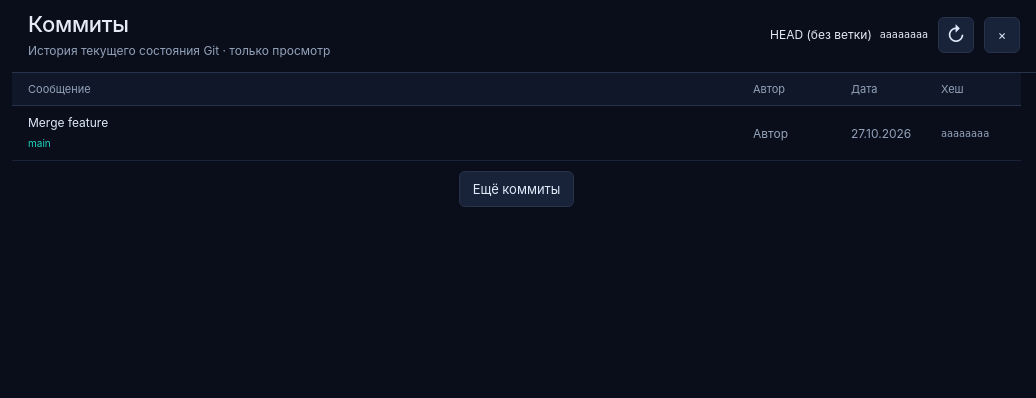
pages without reloading the selection and supports the keyboard splitter
Click the button "Merge feature": coordinates (68, 122) [12,106,1021,161]
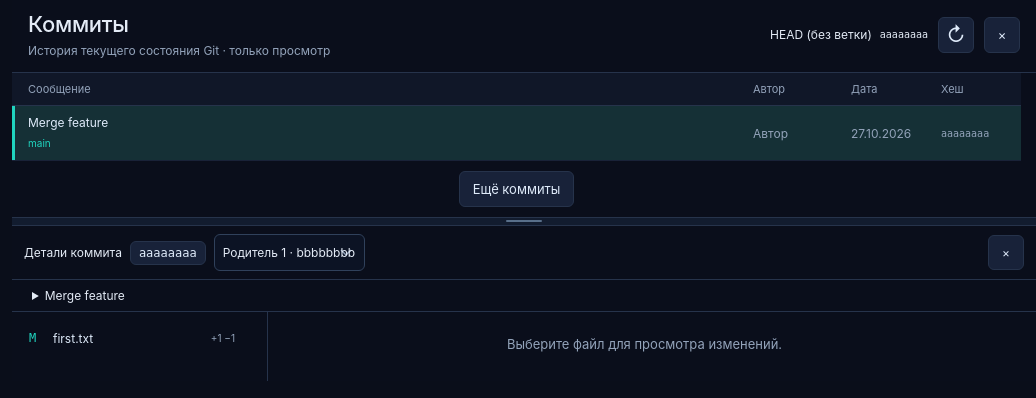
Expected: the button "M first.txt +1 −1" is shown, [20,320,244,356]
Press ArrowDown in the element named "Размер списка коммитов", box [12,217,1035,226]
Click the button "Ещё коммиты": coordinates (516, 189) [459,171,574,207]
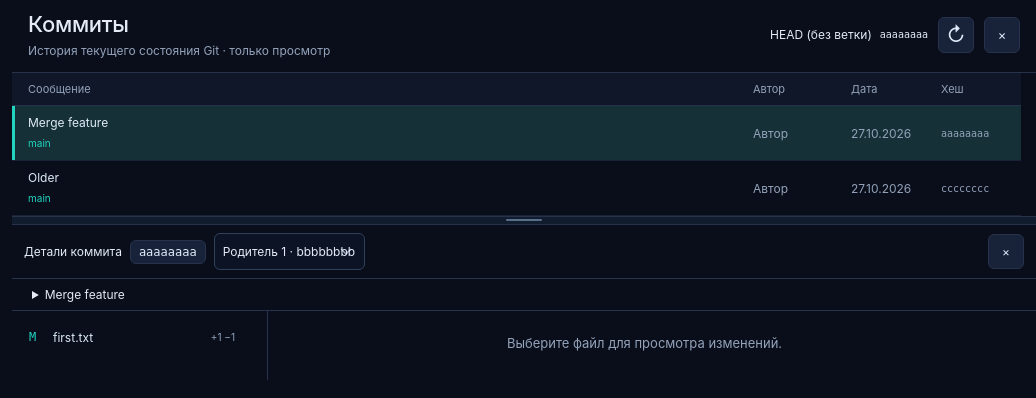
Expected: the button "M first.txt +1 −1" is shown, [20,319,244,355]
Expected: the button "Older main Автор 27.10.2026 cccccccc" is shown, [12,161,1021,216]
